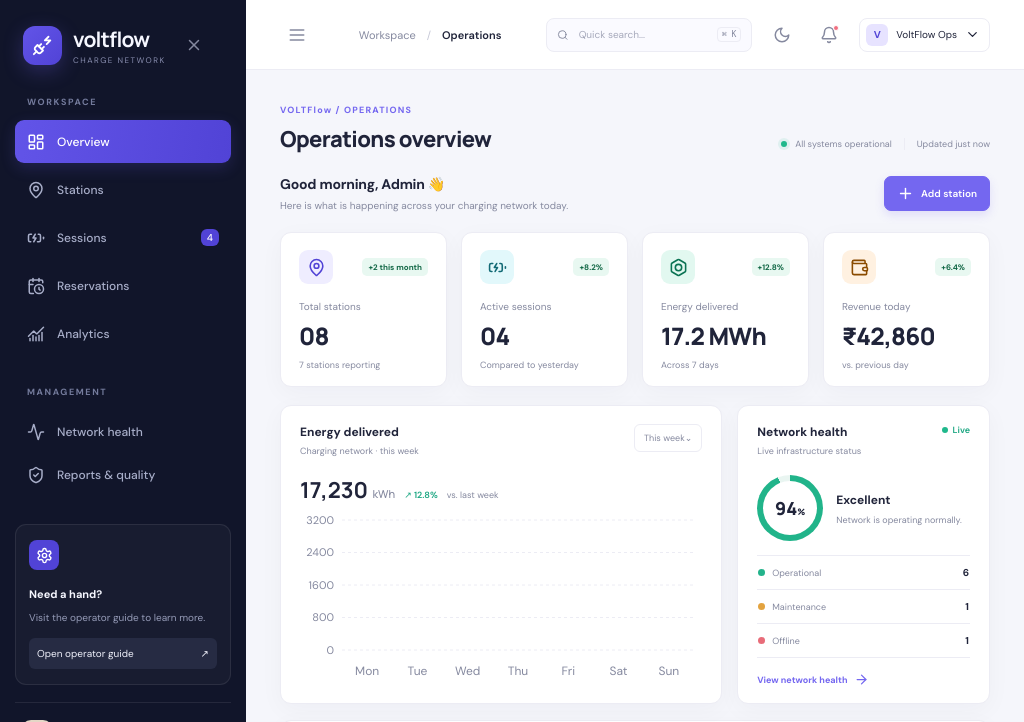
navigates to stations when quick search finds a match
The width and height of the screenshot is (1024, 722).
Type "Marina" into the field named "Quick search" at (643, 34), box [577, 27, 709, 42]
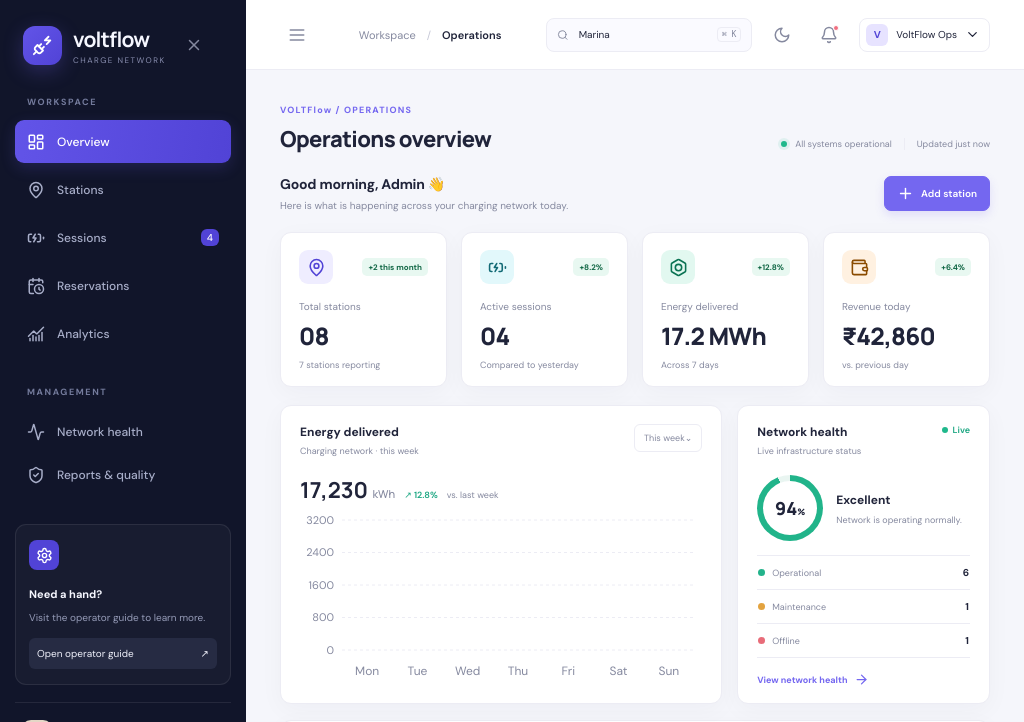
Press Enter in the field named "Quick search", box [577, 27, 709, 42]
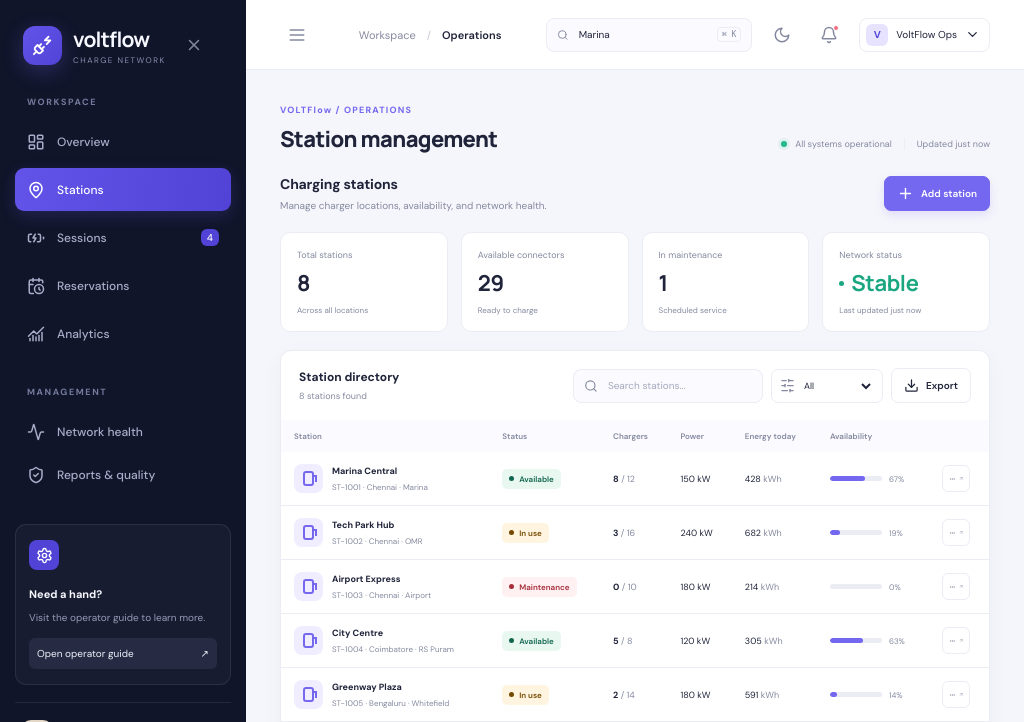
Expected: the heading "Station management" is shown, [280, 124, 497, 154]
